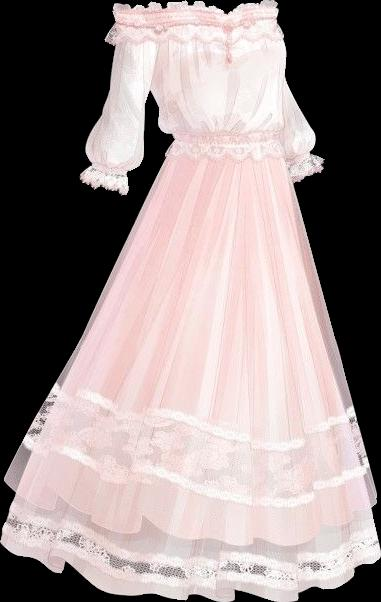Bodice: (151, 2, 287, 136)
Hemline: (2, 477, 380, 550), (1, 536, 380, 601)
Neckline: (162, 0, 275, 19)
Skirt: (1, 135, 380, 601)
Sleeve: (80, 2, 163, 194)
Sleeveline: (145, 6, 167, 93), (91, 160, 131, 175), (114, 18, 161, 27)
Waistline: (173, 127, 280, 142), (104, 34, 160, 46)
